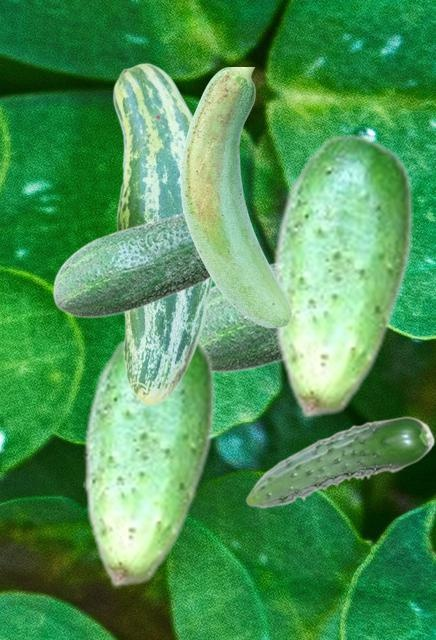cucumber: (272, 132, 412, 418), (112, 62, 212, 405), (83, 335, 214, 587), (180, 67, 291, 327), (245, 416, 434, 507), (52, 212, 210, 317), (200, 260, 280, 372)
